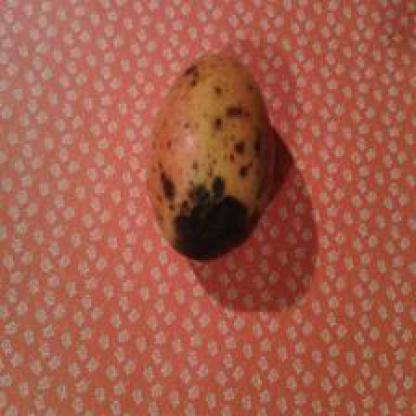mango_rotten: (145, 48, 275, 262)
